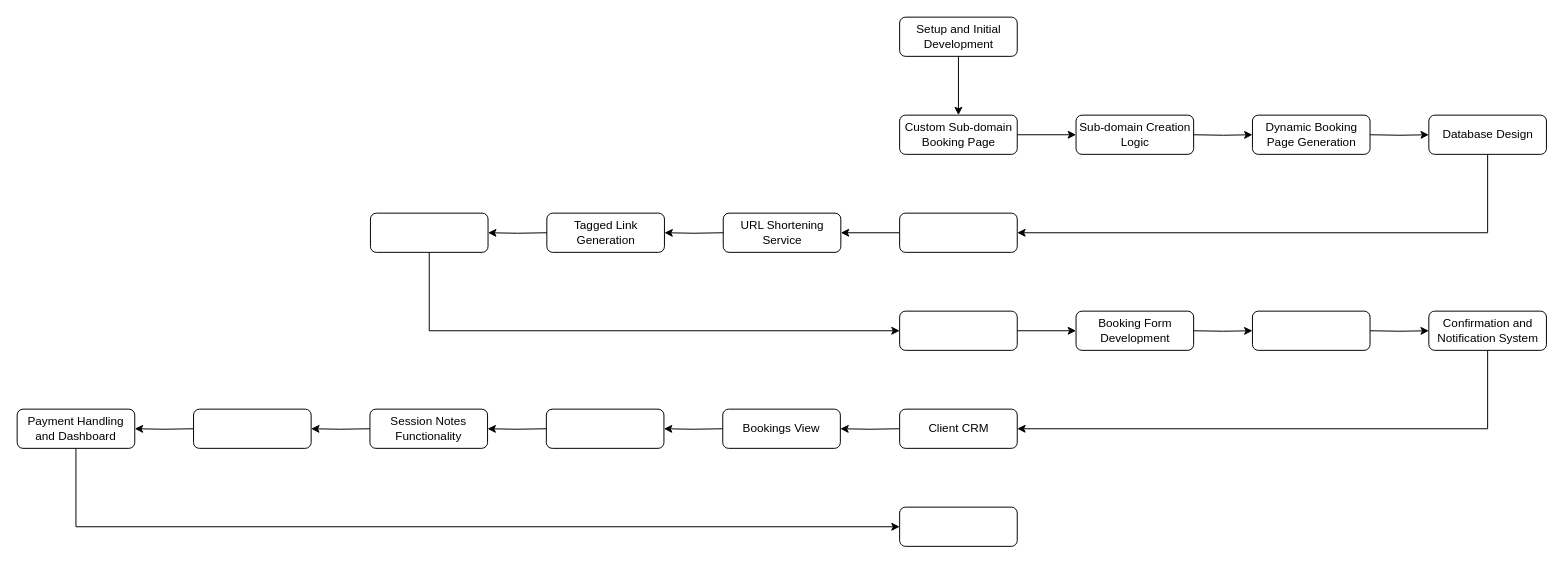
The diagram is 1564 pixels wide and 564 high, and some of its shapes have lost their labels. The box of each missing label's shape, as (x1, y1, x2, y2) in pixels:
Analytical Data and Insights: (193, 408, 311, 448)
Analytics Integration: (369, 212, 488, 252)
Custom Sharable Links: (899, 212, 1017, 252)
Final Testing and Deployment: (899, 506, 1017, 546)
Payment Gateway Integration: (1251, 310, 1370, 350)
Session Booking and Payment Integration: (899, 310, 1017, 350)
User Tracking from Tagged Links: (545, 408, 664, 448)
